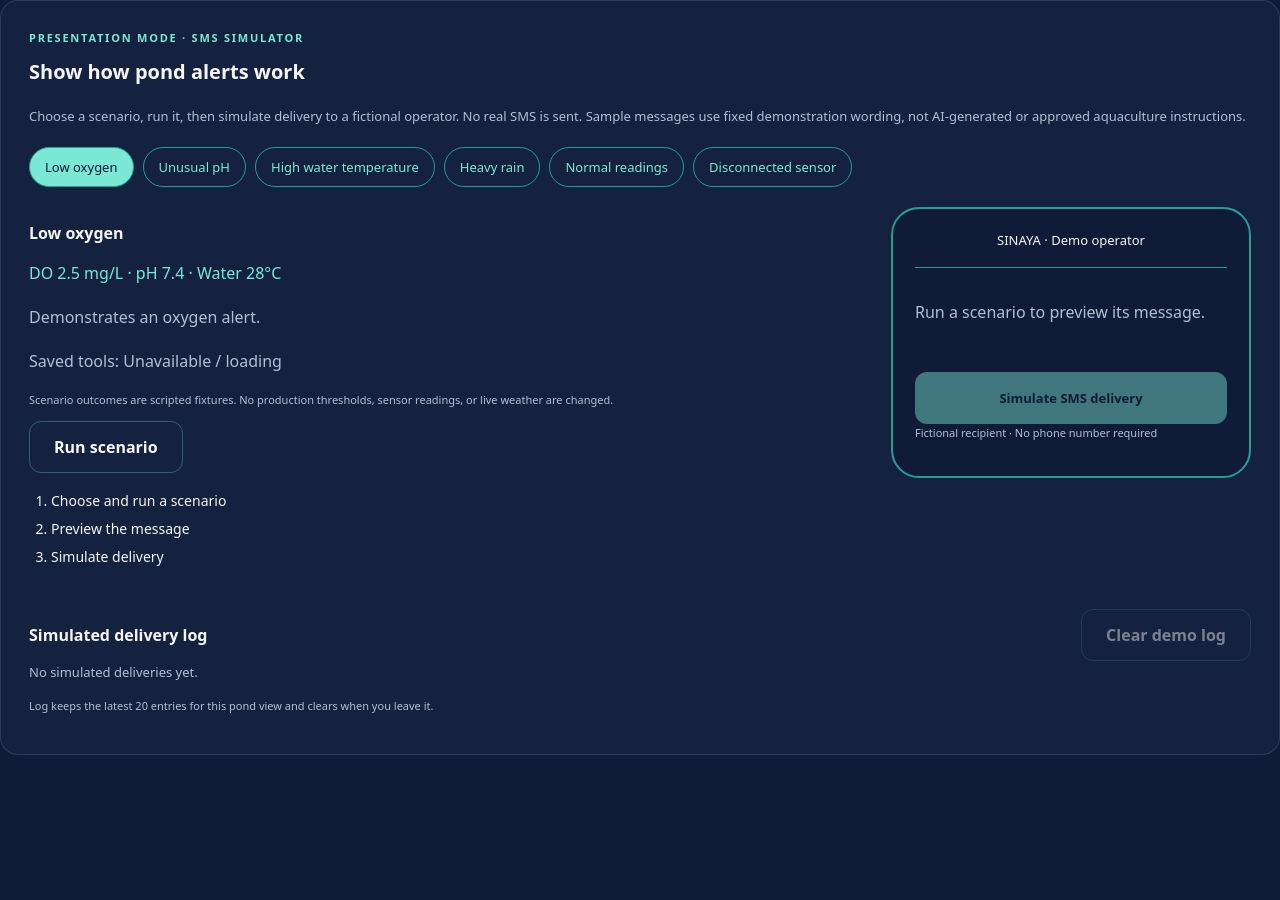
Test: does not queue normal readings and resets the preview when switching scenarios
What coordinates should you click on to do the following:
click the button "Normal readings"
I would click on:
 (617, 167)
Its box is [549, 147, 684, 187].
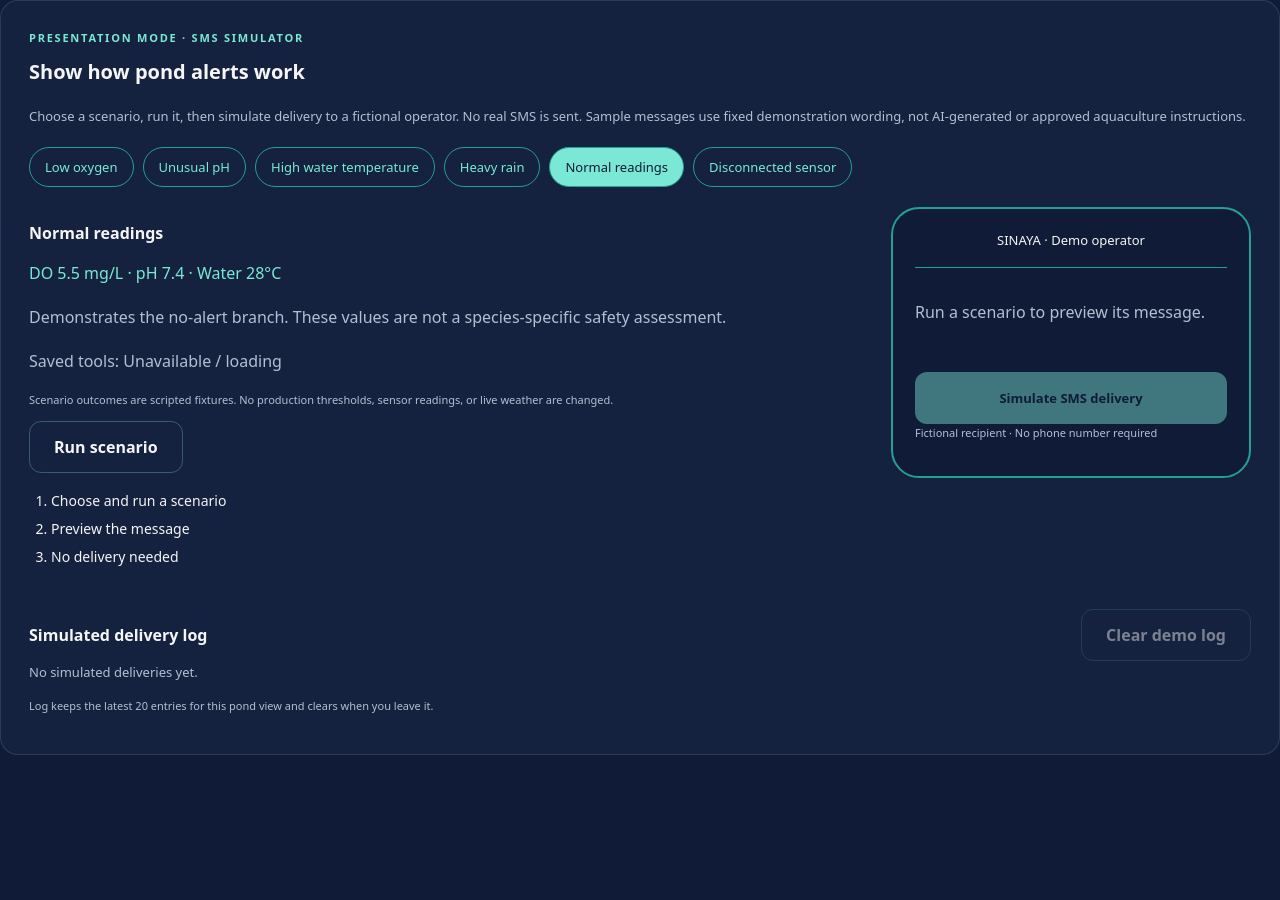
What coordinates should you click on to do the following:
click the button "Run scenario"
I would click on:
 (106, 447)
Its box is [29, 421, 183, 473].
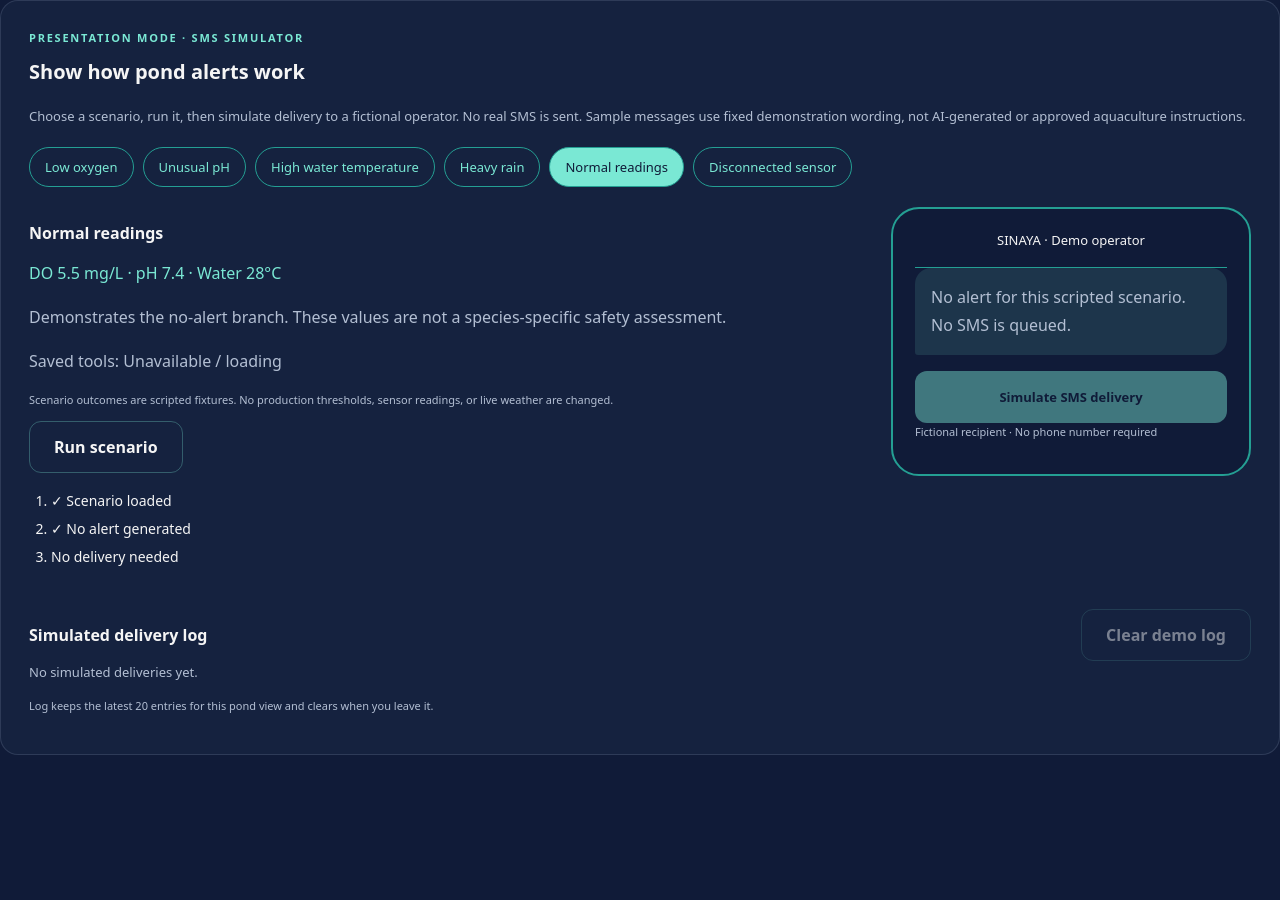
Expected: the button "Simulate SMS delivery" is disabled, [915, 371, 1227, 423]
Expected: the text "No alert for this scripted scenario. No SMS is queued." is shown, [915, 268, 1227, 355]
What coordinates should you click on to do the following:
click the button "Low oxygen"
I would click on:
 (81, 167)
Its box is [29, 147, 134, 187].
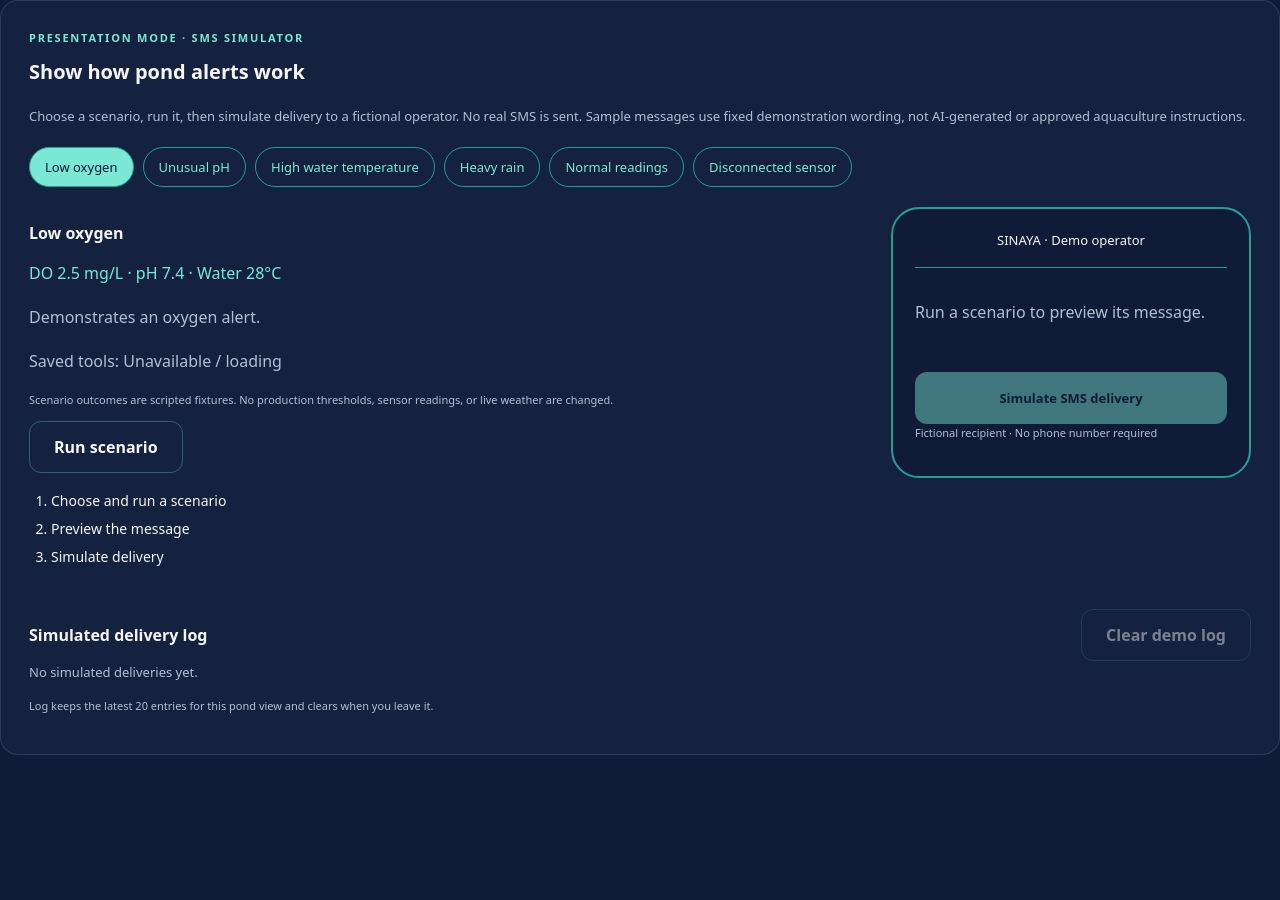
Expected: the text "Run a scenario to preview its message." is shown, [915, 301, 1205, 323]
